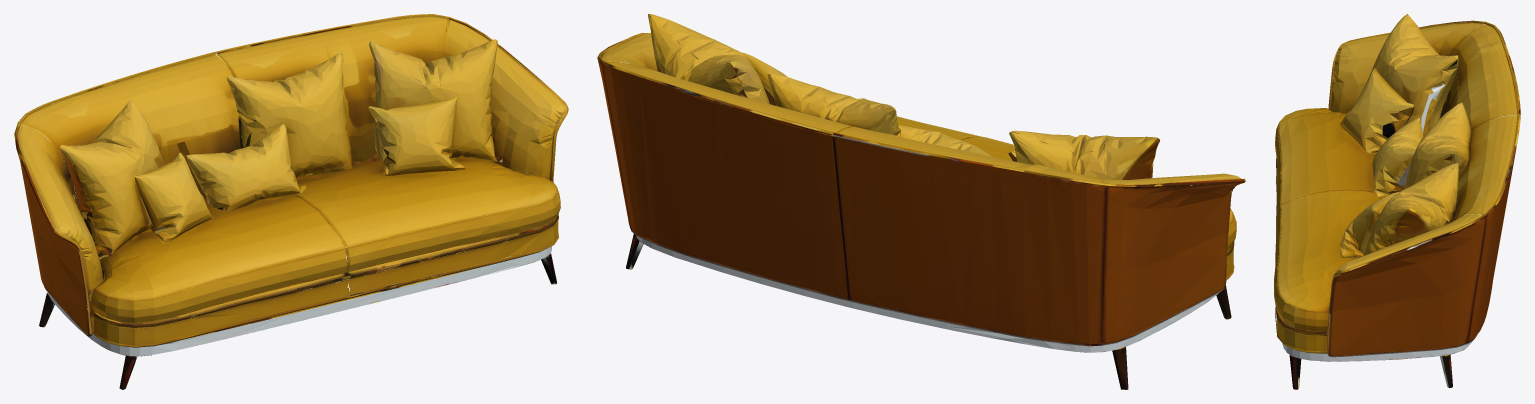
The model's file is edited_mesh.glb.
3 views of the same model, side by side, from view 1: azimuth 30°, elevation 25°; view 2: azimuth 150°, elevation 25°; view 3: azimuth 270°, elevation 25° (orthographic). The views are drawn at different scales.
Parts seen in each view (by area): view 1: solid_001_wire; view 2: solid_001_wire; view 3: solid_001_wire.
Part boxes in pixels (x1,y1,x2,y2): solid_001_wire: (14,14,568,389); solid_001_wire: (597,14,1245,389); solid_001_wire: (1274,14,1520,389).
Size of the model in its own units: 2 by 0.7466 by 0.909.
1 material, 1 textured.
